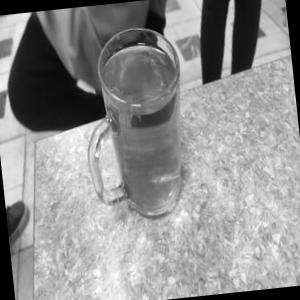tea: (77, 13, 210, 228)
